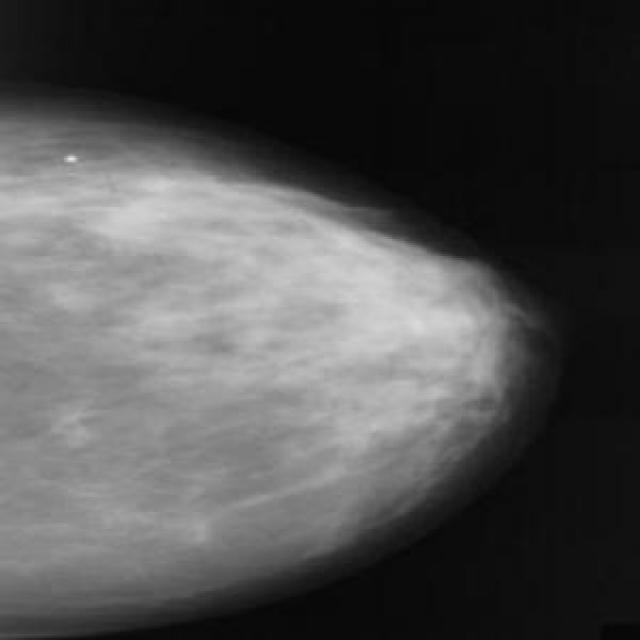tumor: (330, 232, 504, 438), (29, 144, 258, 257)
